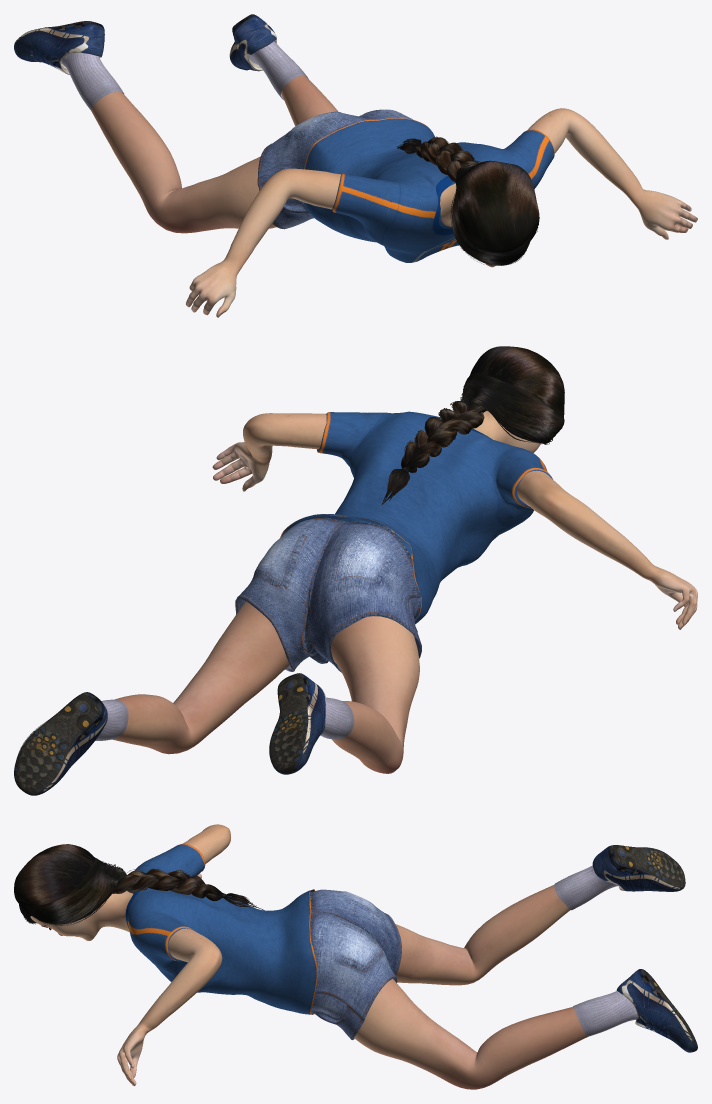
The model's file is swimming_girl.glb.
The picture shows the model from 3 angles, top to bottom: view 1: azimuth 30°, elevation 25°; view 2: azimuth 150°, elevation 25°; view 3: azimuth 270°, elevation 25°; orthographic projection. The views are drawn at different scales.
Visible parts, largest first — view 1: Object_6_baked, Object_12_baked, Object_7_baked, Object_14_baked; view 2: Object_12_baked, Object_6_baked, Object_14_baked, Object_7_baked; view 3: Object_6_baked, Object_12_baked, Object_14_baked, Object_7_baked.
Part boxes in pixels (bbox=[...]): Object_6_baked: bbox=[91, 75, 697, 317]; Object_12_baked: bbox=[257, 109, 554, 262]; Object_7_baked: bbox=[396, 136, 539, 265]; Object_14_baked: bbox=[14, 14, 308, 110]; Object_12_baked: bbox=[235, 411, 553, 672]; Object_6_baked: bbox=[112, 411, 697, 773]; Object_14_baked: bbox=[14, 673, 354, 795]; Object_7_baked: bbox=[382, 346, 564, 504]; Object_6_baked: bbox=[30, 824, 588, 1089]; Object_12_baked: bbox=[125, 843, 401, 1039]; Object_14_baked: bbox=[554, 845, 697, 1052]; Object_7_baked: bbox=[14, 844, 263, 925].
Bounding box in the file's own units: 2.3 × 1.04 × 3.14.
7 materials, 7 textured.
